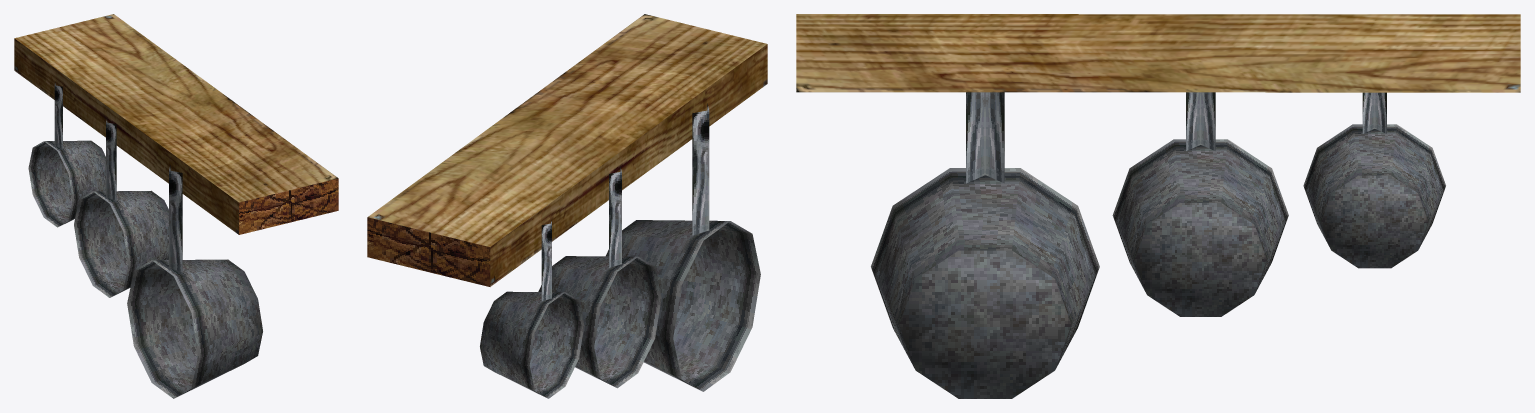
The model's file is INST_LT_PANS.fbx.
3 views of the same model, side by side, from view 1: azimuth 30°, elevation 25°; view 2: azimuth 150°, elevation 25°; view 3: azimuth 270°, elevation 25° (orthographic). The views are drawn at different scales.
Visible parts, largest first — view 1: INST_LT_PANS; view 2: INST_LT_PANS; view 3: INST_LT_PANS.
Part boxes in pixels (x1,y1,x2,y2): INST_LT_PANS: [14, 14, 338, 398]; INST_LT_PANS: [367, 14, 767, 398]; INST_LT_PANS: [796, 14, 1520, 398].
Size of the model in its own units: 2707 by 5003 by 8984.
Materials: 4 (4 with a texture image).
